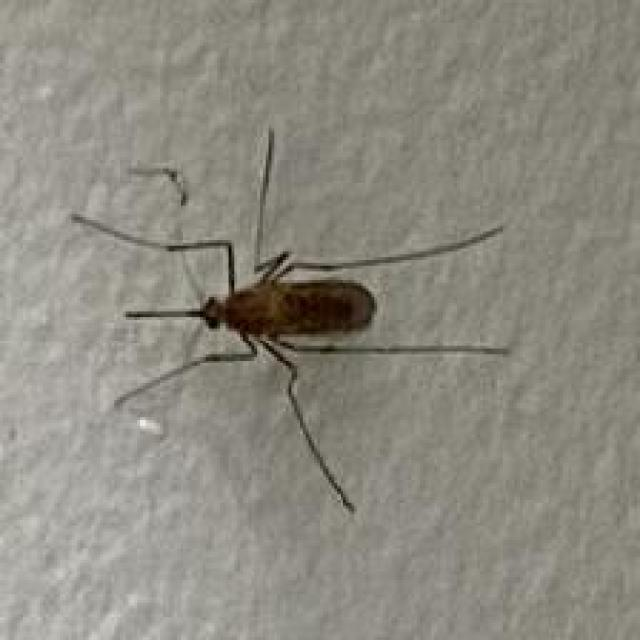Culex: (69, 123, 512, 514)
